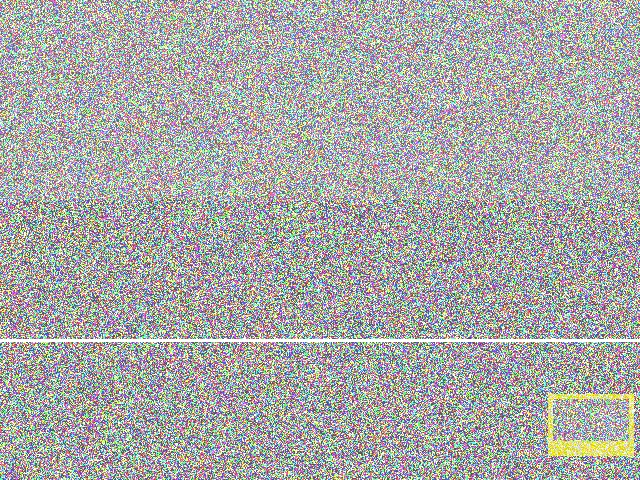bus: (471, 107, 640, 240)
truck: (265, 248, 413, 365)
